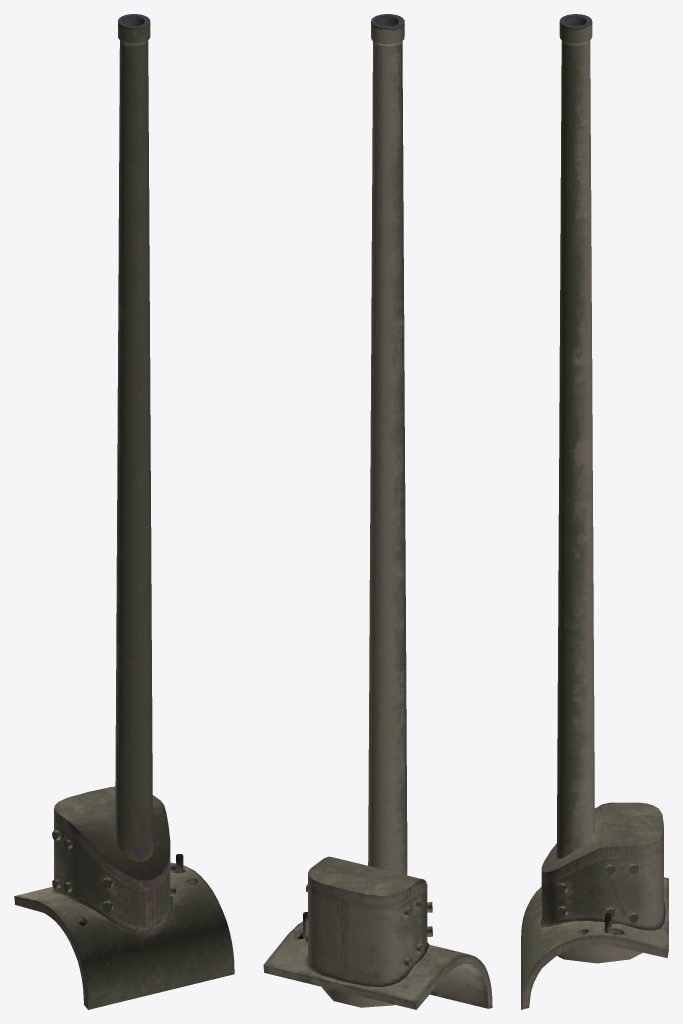
The model's file is Gun_03.glb.
3 views of the same model, side by side, from view 1: azimuth 30°, elevation 25°; view 2: azimuth 150°, elevation 25°; view 3: azimuth 270°, elevation 25° (orthographic). The views are drawn at different scales.
Parts seen in each view (by area): view 1: set_0_group_0; view 2: set_0_group_0; view 3: set_0_group_0.
Part boxes in pixels (bbox=[...]): set_0_group_0: bbox=[14, 14, 234, 1009]; set_0_group_0: bbox=[263, 14, 492, 1009]; set_0_group_0: bbox=[521, 14, 668, 1009].
Size of the model in its own units: 0.5846 by 3.63 by 0.5103.
1 material, 1 textured.
